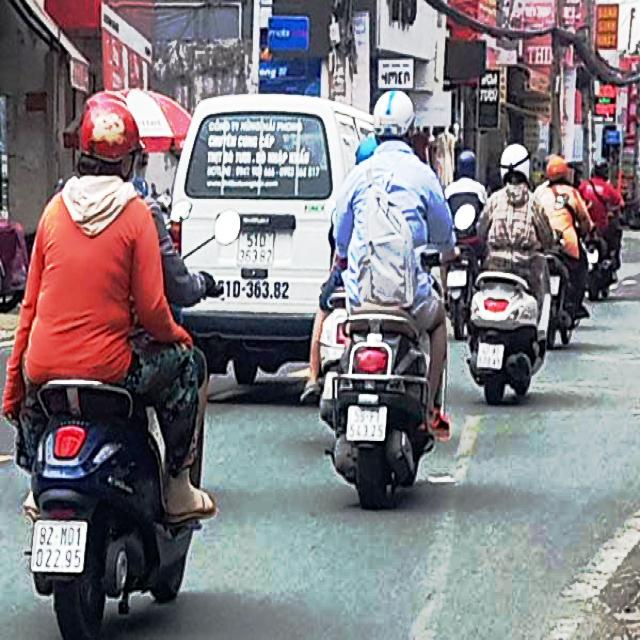license_plate: (33, 520, 90, 573), (238, 227, 276, 267), (347, 407, 388, 442)
